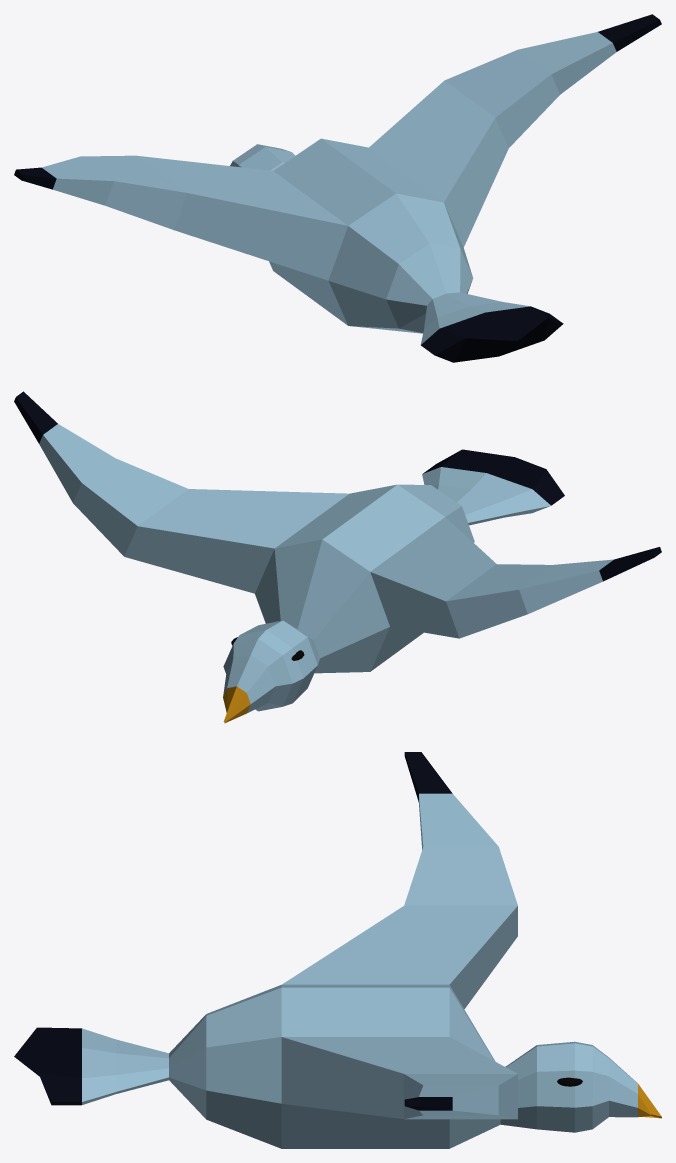
File: bird.obj
3 views of the same model, one above another, from view 1: azimuth 30°, elevation 25°; view 2: azimuth 150°, elevation 25°; view 3: azimuth 270°, elevation 25° (orthographic). The views are drawn at different scales.
Visible parts, largest first — view 1: Cylinder; view 2: Cylinder; view 3: Cylinder.
Part boxes in pixels (bbox=[...]): Cylinder: bbox=[14, 14, 661, 362]; Cylinder: bbox=[14, 391, 661, 723]; Cylinder: bbox=[14, 752, 661, 1148].
Size of the model in its own units: 20.54 by 5.69 by 16.09.
